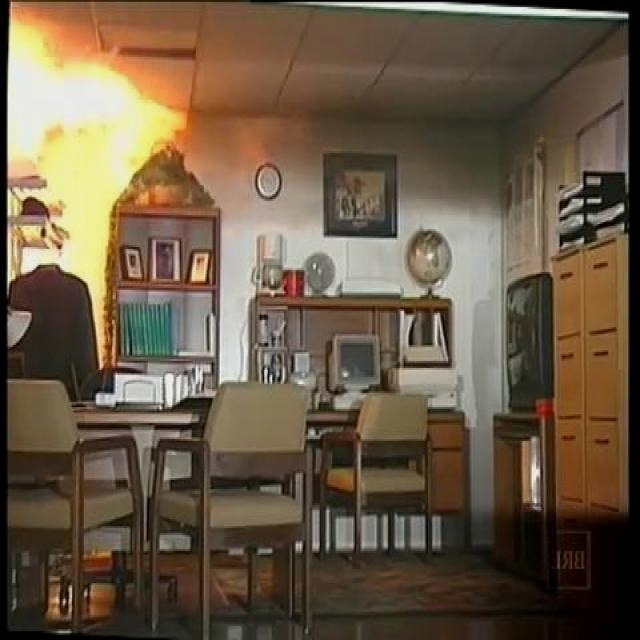fire: (0, 11, 178, 161)
